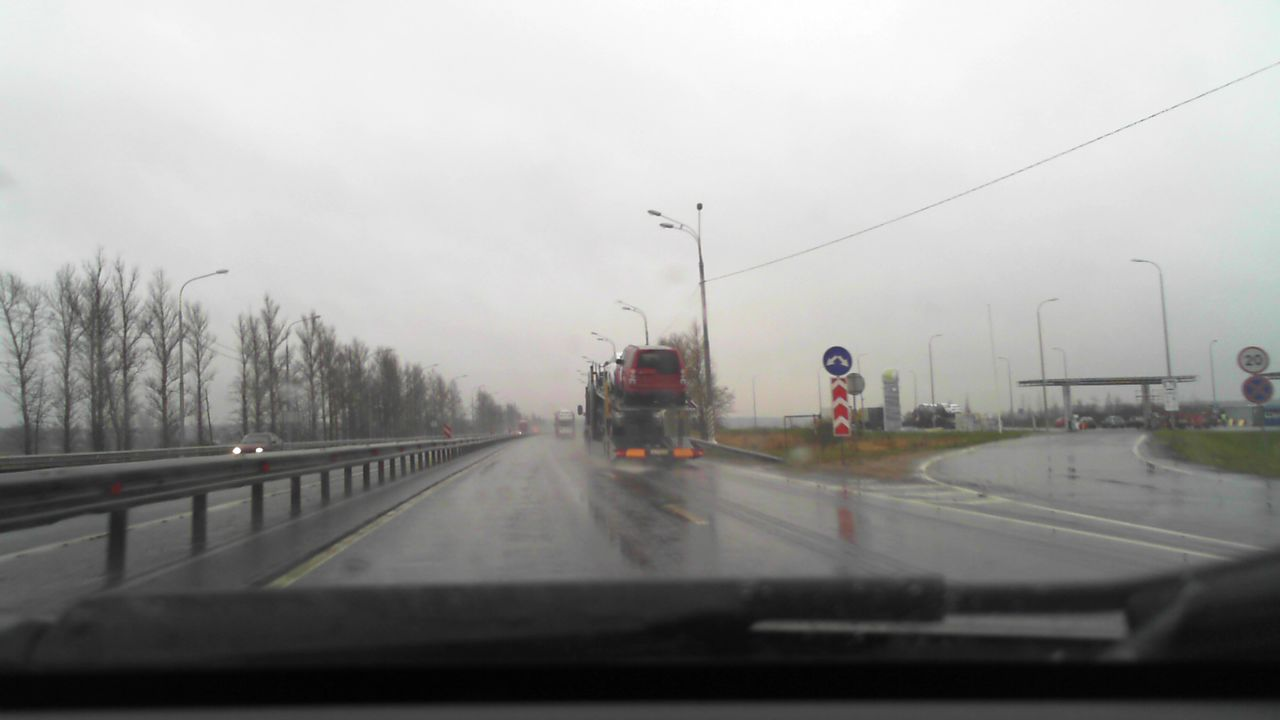No Parking: (1241, 376, 1273, 403)
